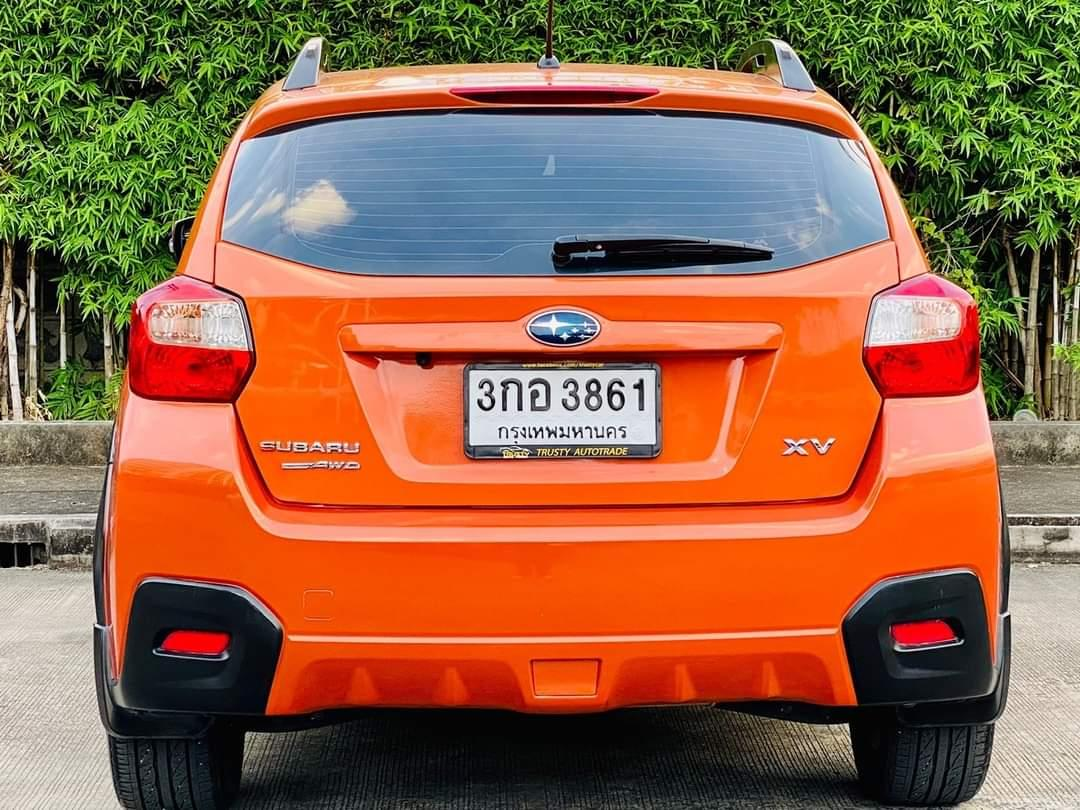license-plate: (462, 359, 668, 464)
